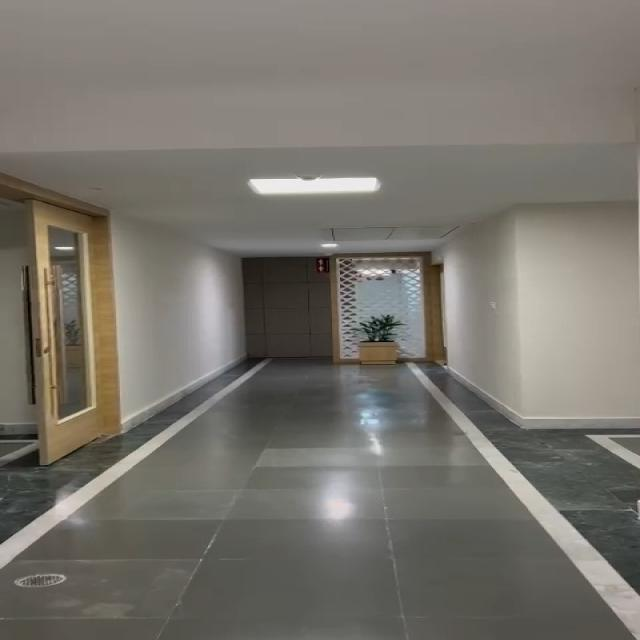door: (9, 198, 127, 451), (251, 256, 441, 363)
floor: (209, 376, 509, 640)
furniture: (350, 311, 424, 384)
wall: (470, 49, 640, 412)
